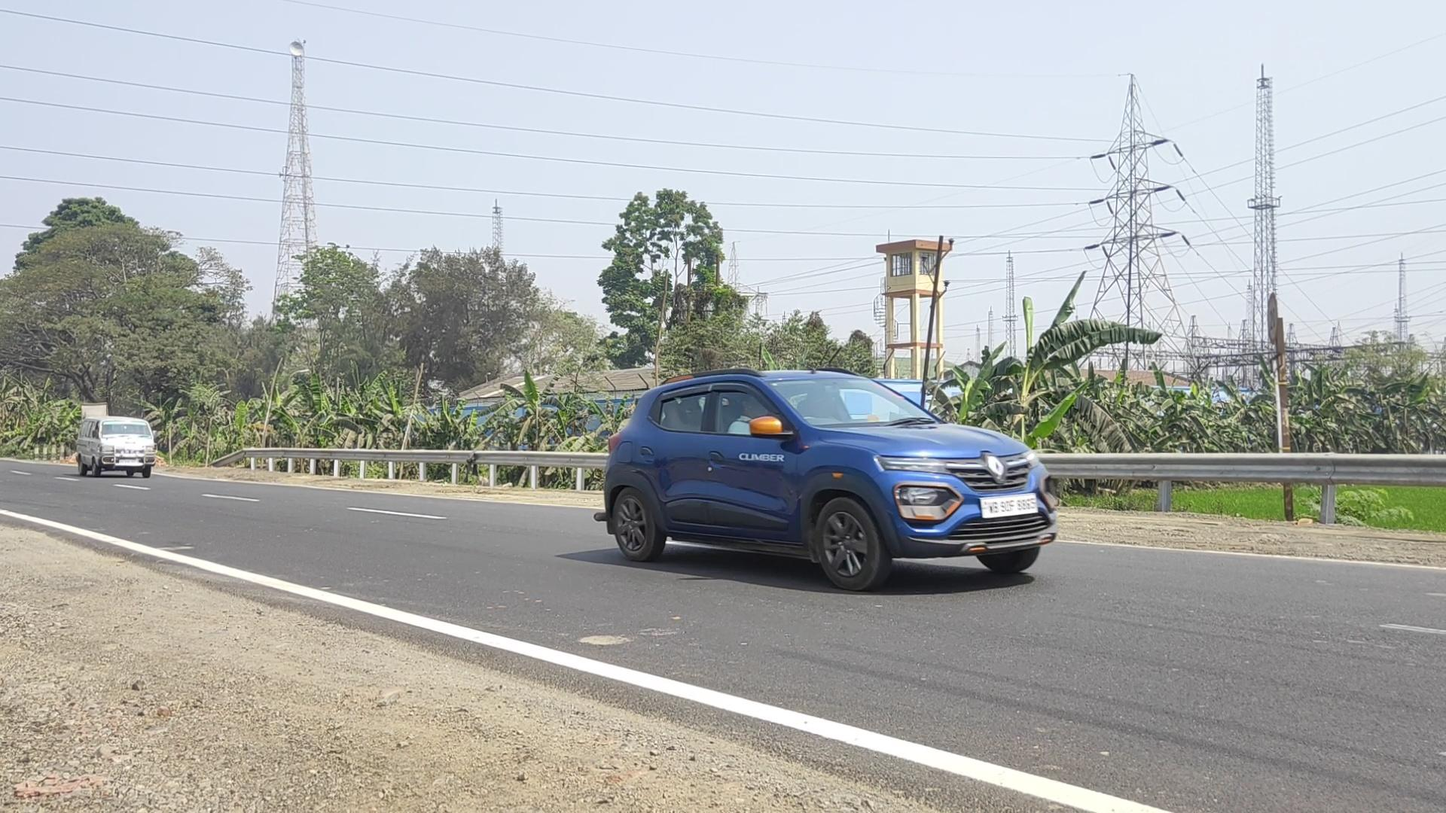car: (594, 367, 1058, 593)
van: (75, 415, 157, 480)
